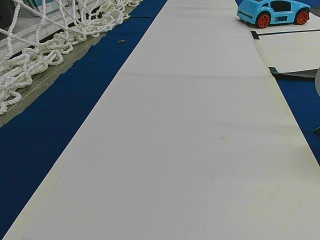car: (238, 1, 310, 26)
